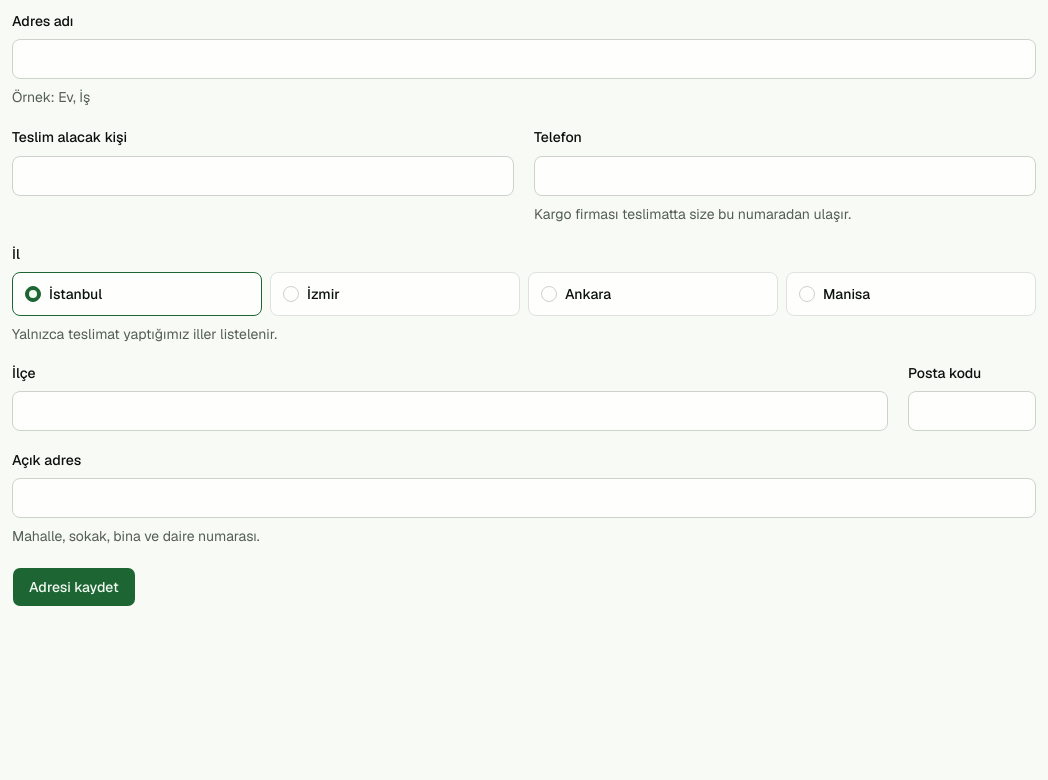
Test: AddressForm › sunucunun alan hatasını ilgili alana bağlar
The image size is (1048, 780).
Type "Ev" into the field labelled "Adres adı" at (524, 59), box [12,39,1036,79]
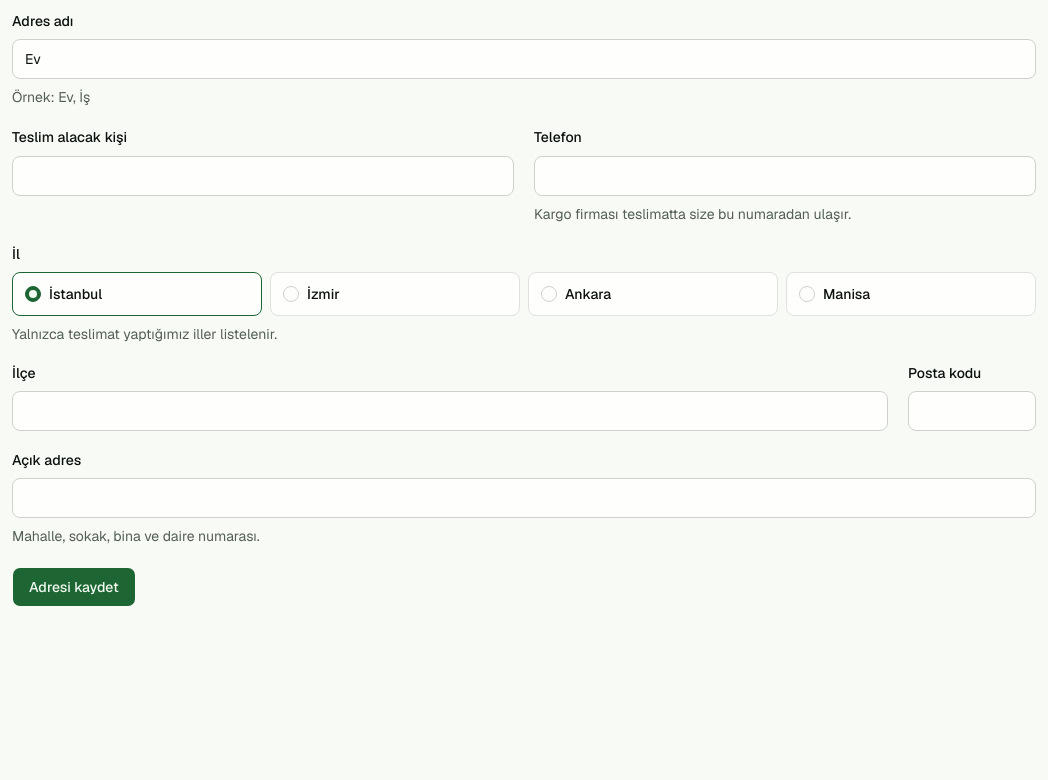
Type "Örnek Alıcı" into the field labelled "Teslim alacak kişi" at (263, 176), box [12,156,514,196]
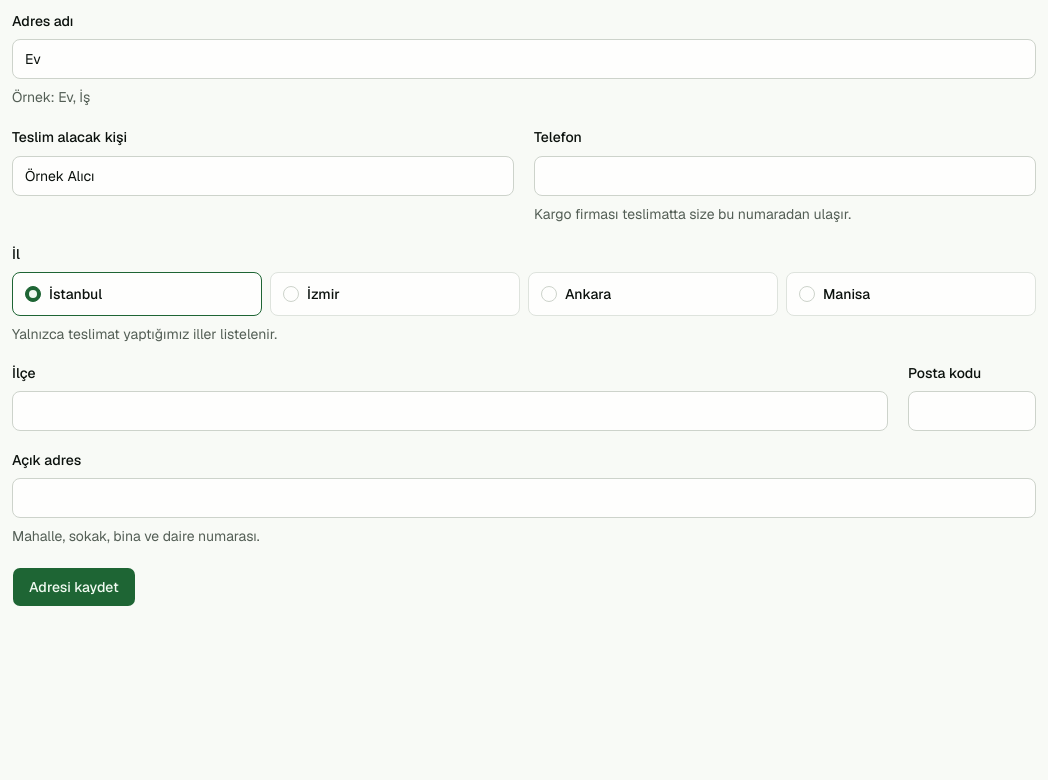
Type "0555 000 00 00" into the field labelled "Telefon" at (785, 176), box [534,156,1036,196]
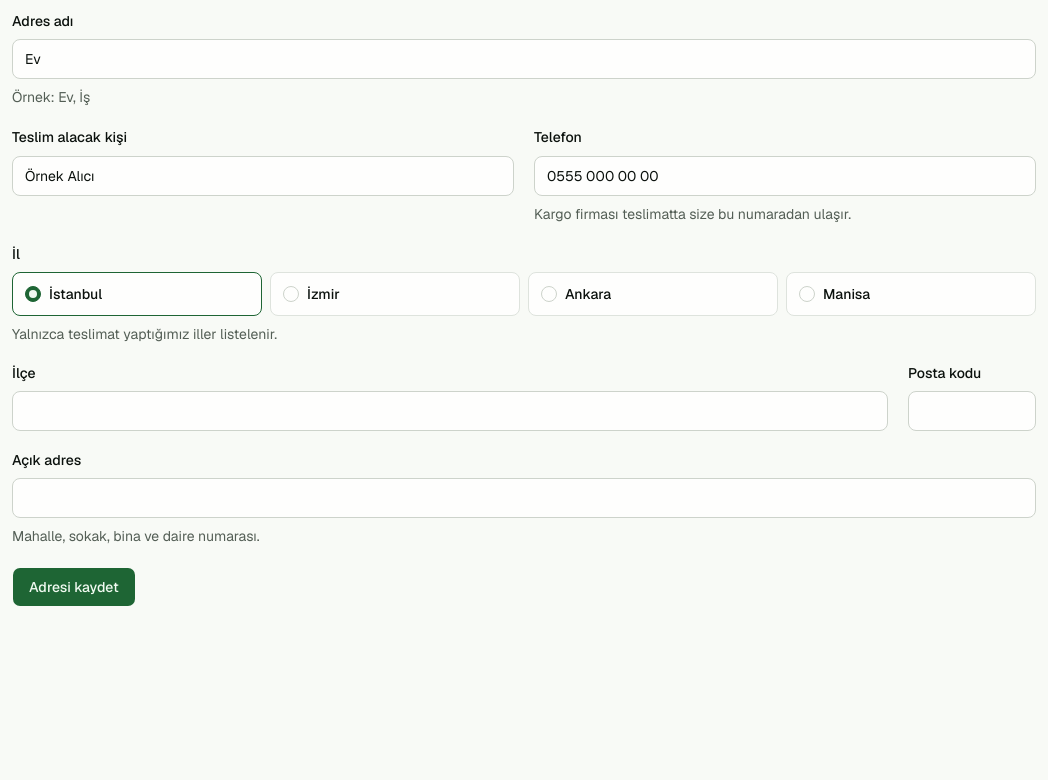
Type "Bornova" into the field labelled "İlçe" at (450, 411), box [12,391,888,431]
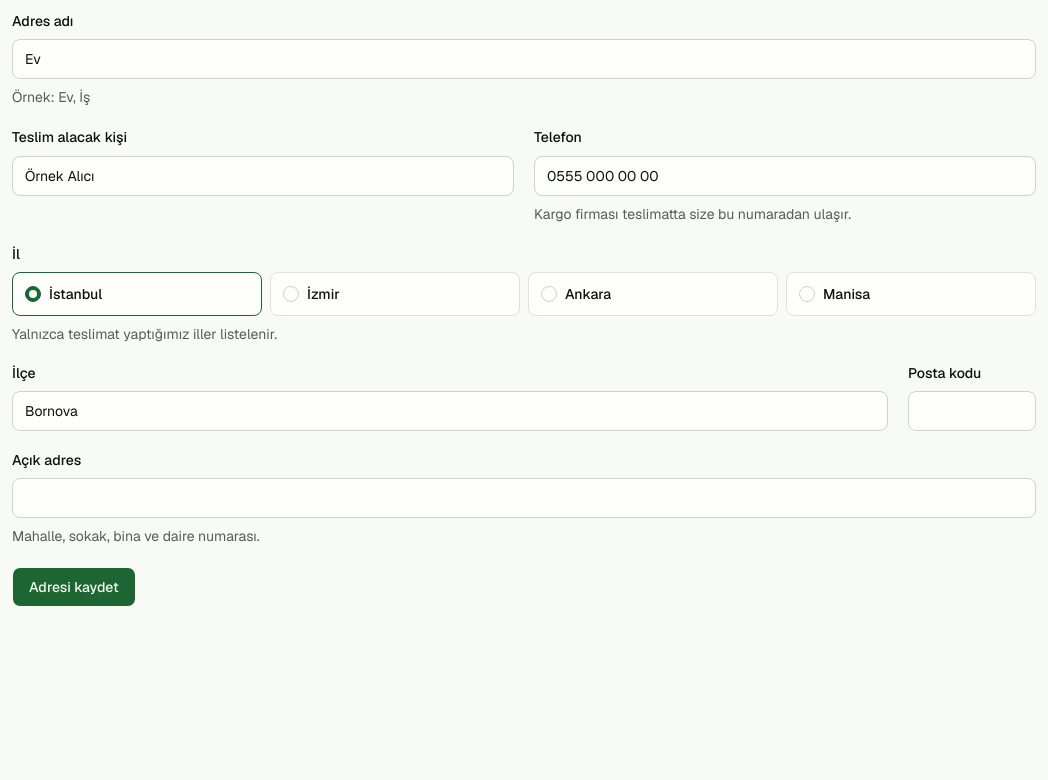
Type "Ornek Mahallesi No: 1" into the field labelled "Açık adres" at (524, 498), box [12,478,1036,518]
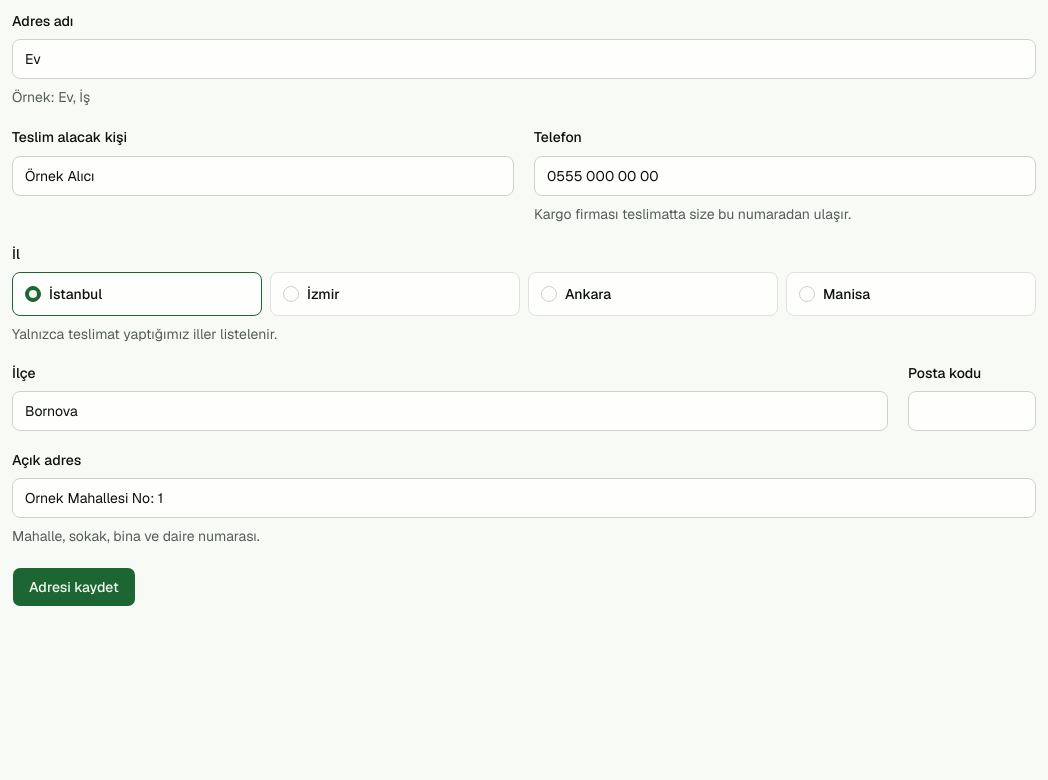
Click the button "Adresi kaydet" at (74, 587), box [12,567,136,607]
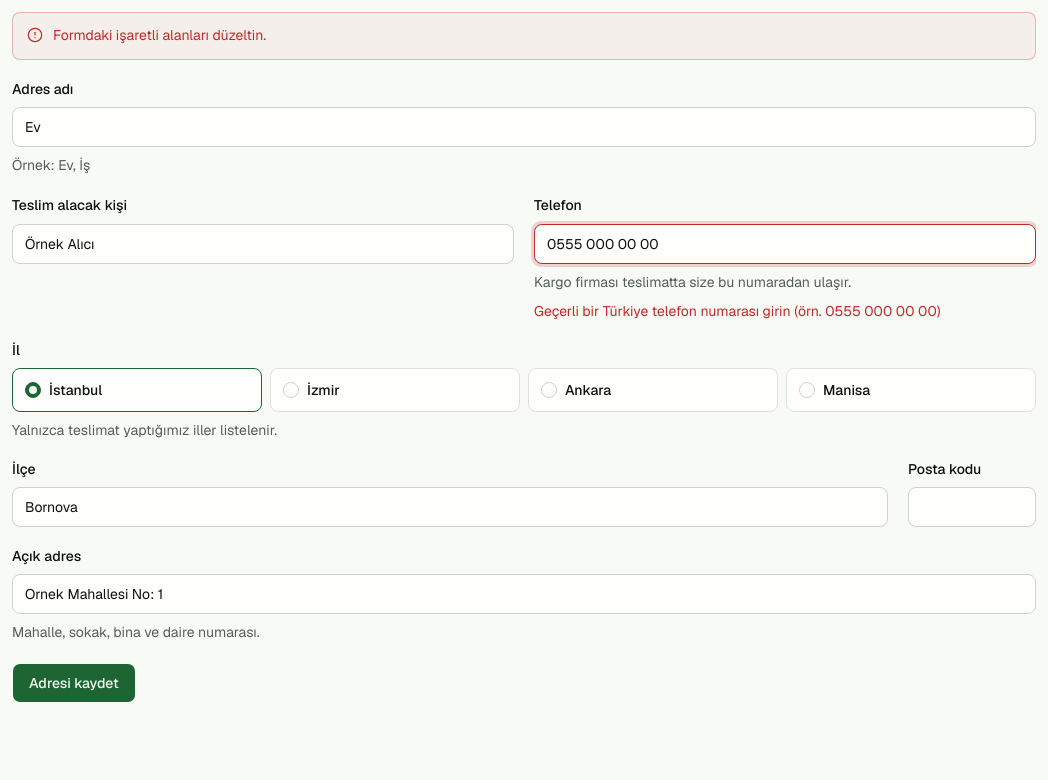
expect the text "Geçerli bir Türkiye telefon numarası girin (örn. 0555 000 00 00)" is shown: met, box [534,302,941,320]
